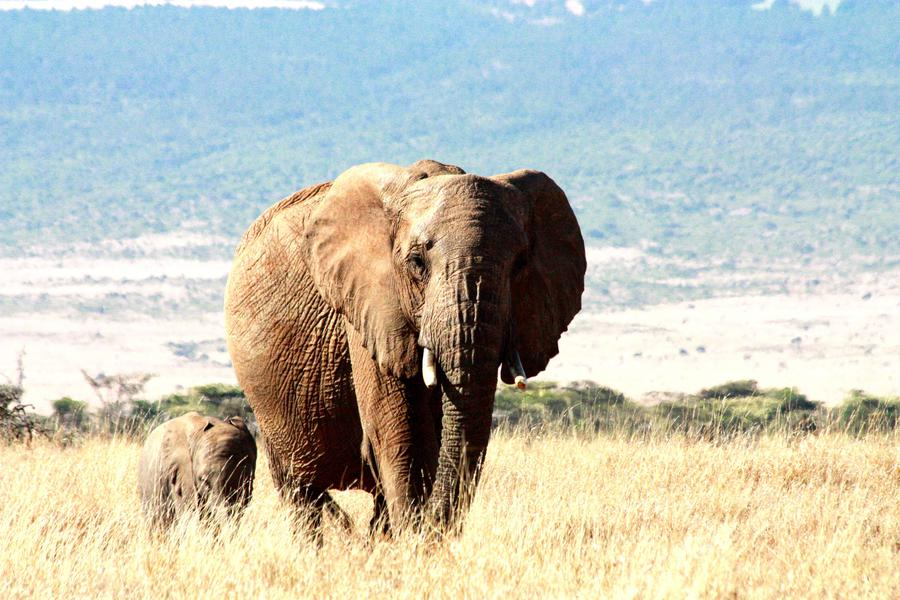elephant: (322, 176, 583, 413)
